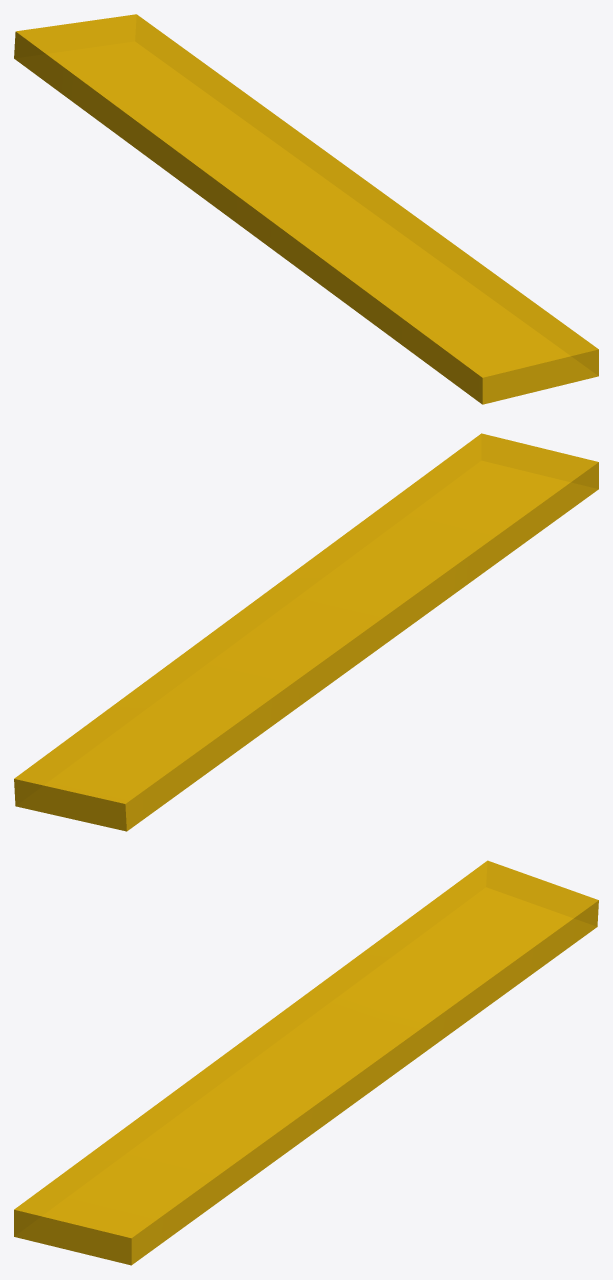
File: SM_Bld_Dock_Plank_07_Collision.fbx
The picture shows the model from 3 angles, top to bottom: view 1: azimuth 30°, elevation 25°; view 2: azimuth 150°, elevation 25°; view 3: azimuth 330°, elevation 25°; orthographic projection.
Visible parts, largest first — view 1: SM_Bld_Dock_Plank_07_Collision; view 2: SM_Bld_Dock_Plank_07_Collision; view 3: SM_Bld_Dock_Plank_07_Collision.
Part boxes in pixels (left/top/right/bottom): SM_Bld_Dock_Plank_07_Collision: left=14, top=14, right=598, bottom=404; SM_Bld_Dock_Plank_07_Collision: left=14, top=433, right=598, bottom=831; SM_Bld_Dock_Plank_07_Collision: left=14, top=860, right=598, bottom=1265.
Bounding box in the file's own units: 36.65 × 10.17 × 253.
